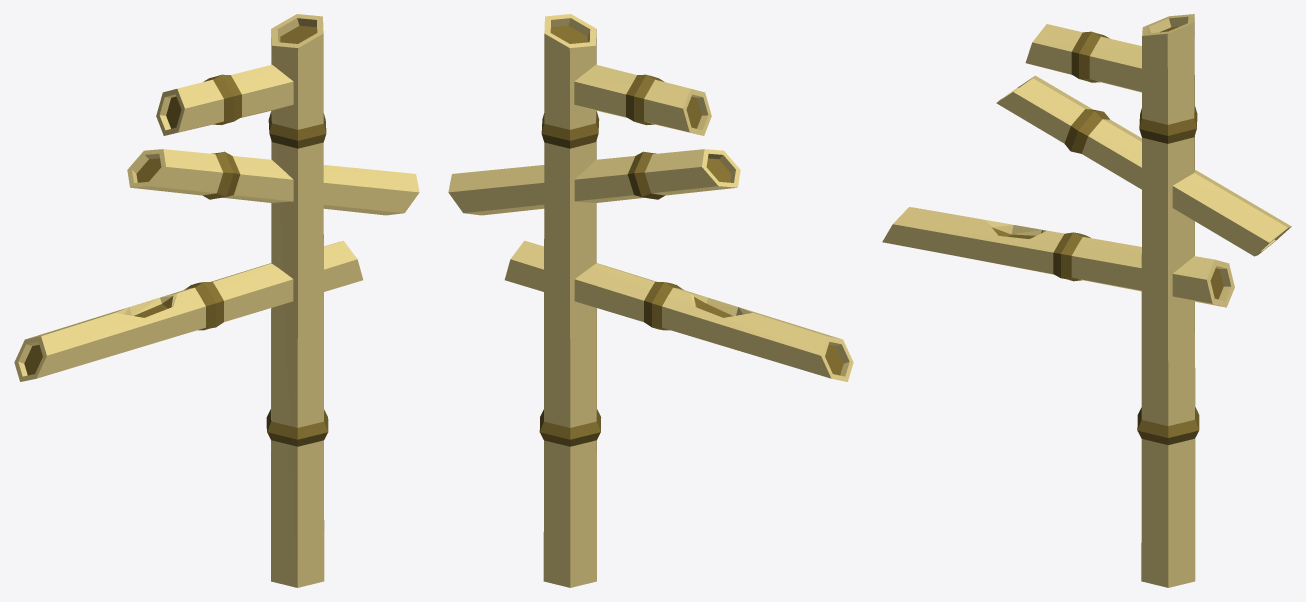
File: Asian_Prop_Bamboo_Dried_Water_Fountain_01.FBX
3 renders of one model, left to right at view 1: azimuth 30°, elevation 25°; view 2: azimuth 150°, elevation 25°; view 3: azimuth 330°, elevation 25°, orthographic.
Parts seen in each view (by area): view 1: Asian_Prop_Bamboo_Dried_Water_Fountain_01; view 2: Asian_Prop_Bamboo_Dried_Water_Fountain_01; view 3: Asian_Prop_Bamboo_Dried_Water_Fountain_01.
Boxes of the visible parts, x1,y1,x2,y2 form: Asian_Prop_Bamboo_Dried_Water_Fountain_01: (14, 14, 419, 587); Asian_Prop_Bamboo_Dried_Water_Fountain_01: (448, 14, 853, 587); Asian_Prop_Bamboo_Dried_Water_Fountain_01: (882, 14, 1291, 587).
Size of the model in its own units: 772 by 1029 by 104.
